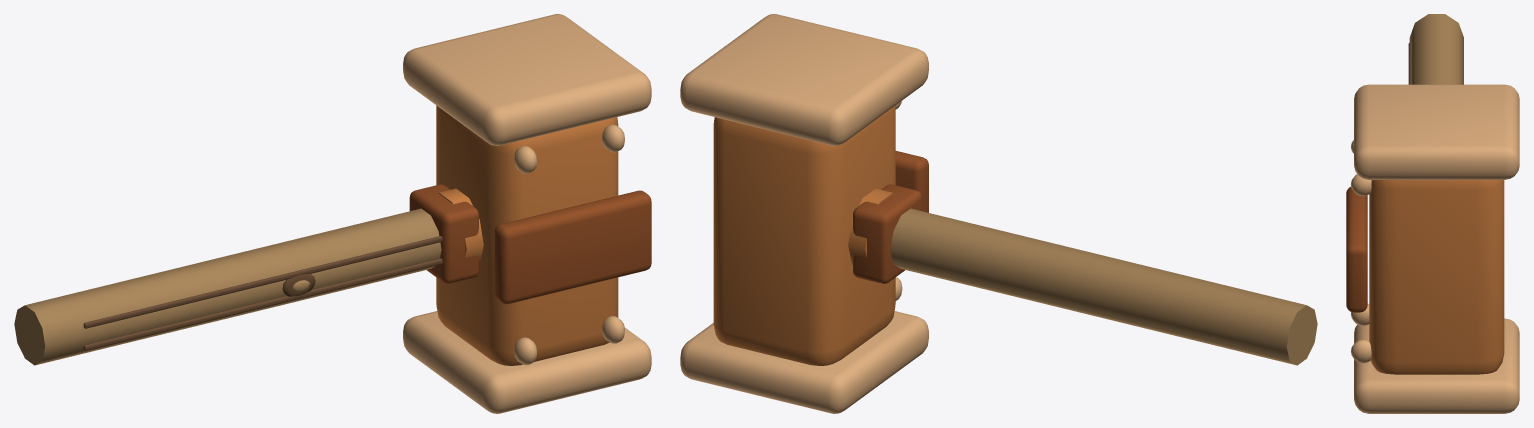
The model's file is wpn_copperhammer.glb.
The picture shows the model from 3 angles, left to right: view 1: azimuth 30°, elevation 25°; view 2: azimuth 150°, elevation 25°; view 3: azimuth 270°, elevation 25°; orthographic projection. The views are drawn at different scales.
Visible parts, largest first — view 1: object 1, folded_striking_plate.001, folded_striking_plate, pine_grain.001, pine_grain; view 2: object 1, folded_striking_plate.001, folded_striking_plate; view 3: object 1, folded_striking_plate.001, folded_striking_plate, pine_grain.001.
Boxes of the visible parts, left/top/right/bottom form: object 1: left=14, top=105, right=651, bottom=365; folded_striking_plate.001: left=403, top=14, right=651, bottom=145; folded_striking_plate: left=403, top=311, right=651, bottom=413; pine_grain.001: left=83, top=236, right=442, bottom=328; pine_grain: left=83, top=258, right=442, bottom=350; object 1: left=713, top=101, right=1317, bottom=365; folded_striking_plate.001: left=680, top=14, right=928, bottom=145; folded_striking_plate: left=680, top=311, right=928, bottom=413; object 1: left=1346, top=14, right=1504, bottom=374; folded_striking_plate.001: left=1354, top=84, right=1519, bottom=179; folded_striking_plate: left=1354, top=318, right=1519, bottom=413; pine_grain.001: left=1408, top=42, right=1412, bottom=84.
Size of the model in its own units: 1.19 by 0.6 by 0.3531.
